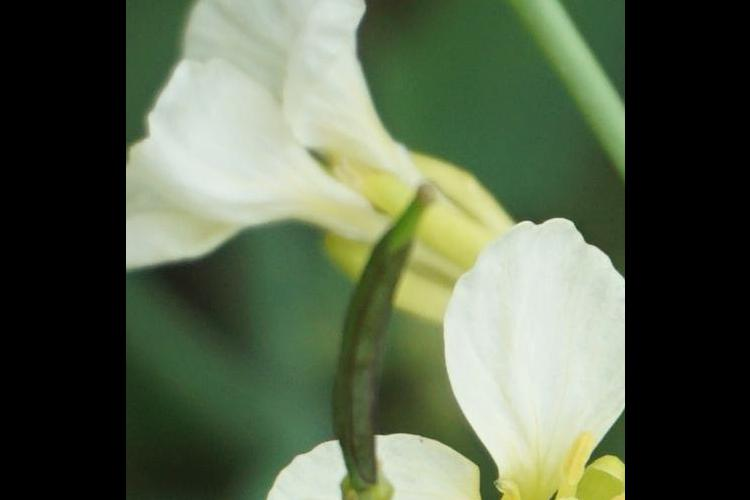pod: (326, 160, 415, 500)
white: (127, 1, 463, 263), (229, 440, 590, 500)
